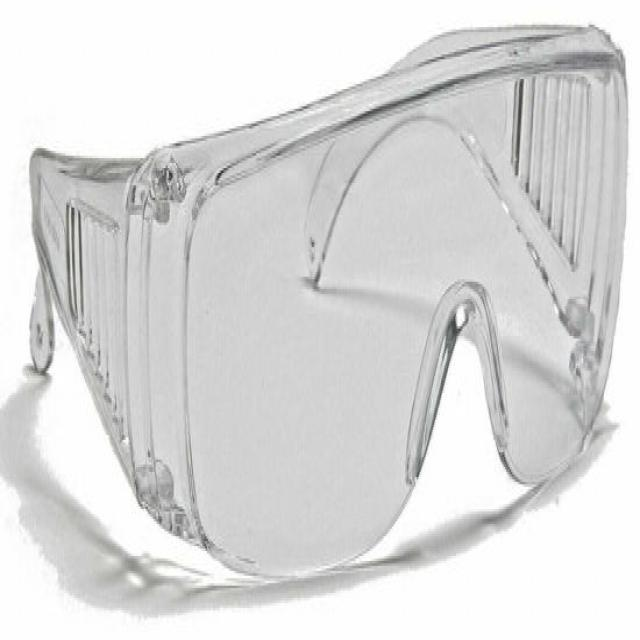Protective Glasses: (5, 3, 633, 621)
